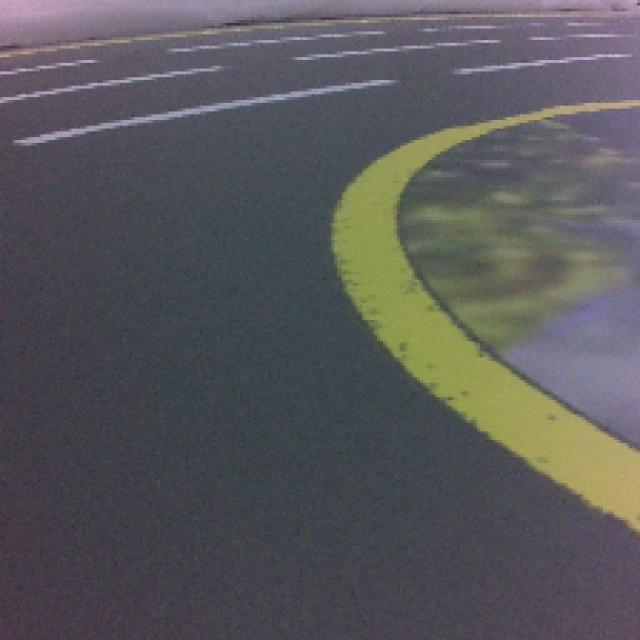Road: (0, 419, 640, 640)
